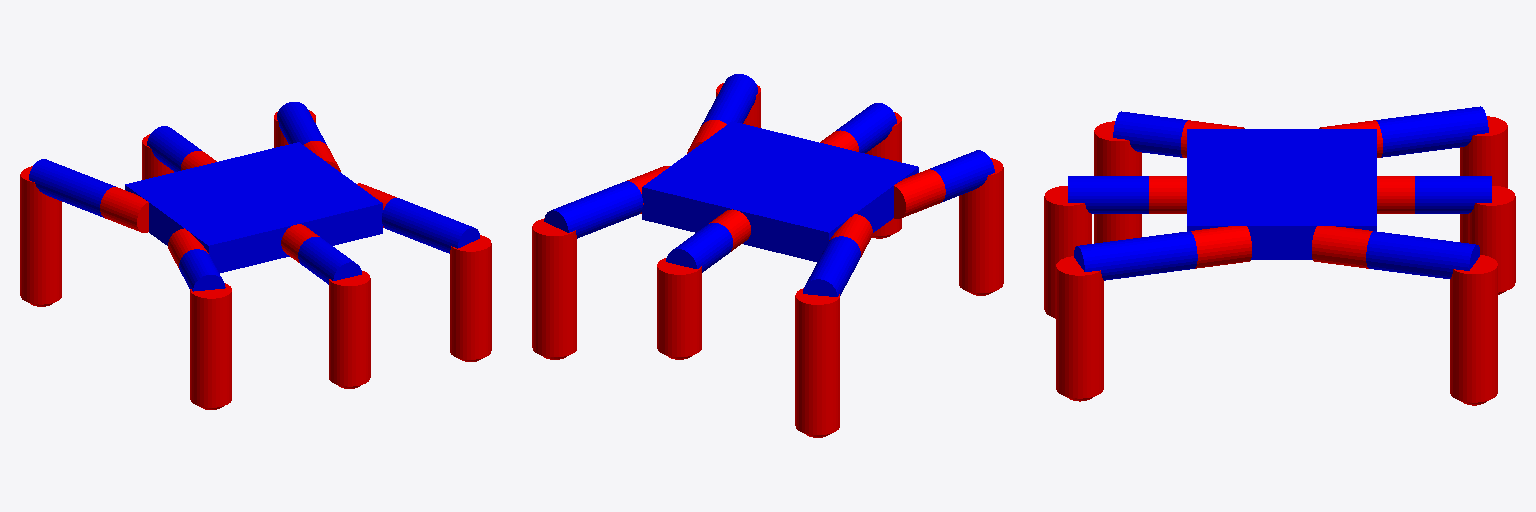
--- What the picture shows (computed from the rendered views, not written in the file) ---
The picture shows the robot from 3 angles, left to right: view 1: azimuth 30°, elevation 25°; view 2: azimuth 150°, elevation 25°; view 3: azimuth 270°, elevation 25°; orthographic projection.
Model pexod with 19 links and 18 joints (18 revolute), rooted at base_link, posed all joints at 0.
Visible links, largest first — view 1: base_link, leg_5_3, leg_3_3, leg_0_3, leg_4_3, leg_3_2, leg_0_2, leg_4_2, leg_0_1, leg_2_2, leg_5_2, leg_1_2 (+3 smaller); view 2: base_link, leg_0_3, leg_2_3, leg_5_3, leg_1_3, leg_2_2, leg_0_2, leg_1_2, leg_5_1, leg_5_2, leg_3_2, leg_4_2 (+3 smaller); view 3: base_link, leg_2_3, leg_3_3, leg_3_2, leg_2_2, leg_0_2, leg_4_3, leg_1_3, leg_5_3, leg_4_2, leg_1_2, leg_0_3 (+5 smaller).
Link boxes in pixels (x1,y1,x2,y2): base_link: (125, 142, 382, 273); leg_5_3: (190, 283, 231, 409); leg_3_3: (450, 235, 491, 361); leg_0_3: (20, 166, 61, 306); leg_4_3: (329, 271, 370, 388); leg_3_2: (382, 198, 479, 253); leg_0_2: (29, 159, 115, 217); leg_4_2: (298, 237, 361, 284); leg_0_1: (100, 187, 148, 232); leg_2_2: (277, 102, 326, 144); leg_5_2: (179, 249, 225, 291); leg_1_2: (147, 126, 201, 171); base_link: (642, 121, 918, 262); leg_0_3: (795, 288, 839, 437); leg_2_3: (532, 218, 576, 359); leg_5_3: (959, 158, 1003, 295); leg_1_3: (657, 258, 701, 359); leg_2_2: (544, 181, 642, 238); leg_0_2: (803, 236, 860, 296); leg_1_2: (666, 223, 732, 272); leg_5_1: (894, 169, 945, 218); leg_5_2: (930, 150, 994, 202); leg_3_2: (701, 74, 757, 125); leg_4_2: (836, 103, 896, 152); base_link: (1187, 129, 1376, 259); leg_2_3: (1450, 255, 1497, 405); leg_3_3: (1056, 256, 1103, 401); leg_3_2: (1074, 231, 1197, 280); leg_2_2: (1366, 231, 1479, 278); leg_0_2: (1376, 106, 1488, 157); leg_4_3: (1044, 186, 1091, 318); leg_1_3: (1468, 186, 1515, 294); leg_5_3: (1094, 121, 1141, 243); leg_4_2: (1068, 176, 1148, 213); leg_1_2: (1415, 176, 1491, 213); leg_0_3: (1460, 116, 1507, 242).
Size in the robot's own frame: 0.3961 by 0.4944 by 0.1924 metres.
Geometry: primitives only (box / cylinder / sphere), no mesh files.

The robot description file, URDF, robot "pexod":
<?xml version="1.0" ?>
<!-- =================================================================================== -->
<!-- |    This document was autogenerated by xacro from pexod.xacro                    | -->
<!-- |    EDITING THIS FILE BY HAND IS NOT RECOMMENDED                                 | -->
<!-- =================================================================================== -->
<robot name="pexod" xmlns:xacro="http://www.ros.org/wiki/xacro">
  <!-- <xacro:include filename="$(find pexod_description)/urdf/pexod_control.xacro" /> -->
  <!-- MATERIALS -->
  <material name="Blue">
    <color rgba="0 0 1 1"/>
  </material>
  <material name="Red">
    <color rgba="1 0 0 1"/>
  </material>
  <material name="Green">
    <color rgba="0 1 0 1"/>
  </material>
  <material name="Yellow">
    <color rgba="1 1 0 1"/>
  </material>
  <material name="LightGrey">
    <color rgba="0.6 0.6 0.6 1.0"/>
  </material>
  <!-- END OF MATERIALS -->
  <!-- XACRO MACROS FOR VISUALS AND COLLISIONS -->
  <!-- END OF XACRO MACROS -->
  <!-- TORSO -->
  <link name="base_link">
    <visual>
      <origin rpy="0 0 0" xyz="0 0 0"/>
      <geometry>
        <box size="0.24 0.2 0.04"/>
      </geometry>
      <material name="Blue"/>
    </visual>
    <collision>
      <origin rpy="0 0 0" xyz="0 0 0"/>
      <geometry>
        <box size="0.24 0.2 0.04"/>
      </geometry>
    </collision>
    <inertial>
      <!-- CENTER OF MASS -->
      <origin rpy="0 0 0" xyz="0 0 0"/>
      <mass value="1.031"/>
      <!-- box inertia: 1/12*m(y^2+z^2), ... -->
      <inertia ixx="0.00357413333333" ixy="0" ixz="0" iyy="0.00508626666667" iyz="0" izz="0.00838546666667"/>
    </inertial>
  </link>
  <!-- XACRO MACRO FOR LEGS LINKS/JOINTS -->
  <!-- END OF LEG LINKS/JOINTS -->
  <joint name="body_leg_2" type="revolute">
    <parent link="base_link"/>
    <child link="leg_2_1"/>
    <limit effort="30.0" lower="-1.57079632679" upper="1.57079632679" velocity="7.0"/>
    <origin rpy="0 0 -0.3" xyz="0.11 0.04 0"/>
    <!-- <xacro:if value="${index == 5 or index == 4 or index == 3}">
                <axis xyz="0 0 1"/>
            </xacro:if>
            <xacro:if value="${index == 2 or index == 1 or index == 0}"> -->
    <axis xyz="0 0 1"/>
    <!-- </xacro:if> -->
    <dynamics damping="0.0"/>
  </joint>
  <link name="leg_2_1">
    <visual>
      <origin rpy="1.57079632679 0 0" xyz="0.01 0.03 0"/>
      <geometry>
        <cylinder length="0.06" radius="0.02"/>
      </geometry>
      <material name="Red"/>
    </visual>
    <collision>
      <origin rpy="1.57079632679 0 0" xyz="0.01 0.03 0"/>
      <geometry>
        <box size="0.02 0.02 0.06"/>
      </geometry>
    </collision>
    <inertial>
      <!-- CENTER OF MASS -->
      <origin rpy="1.57079632679 0 0" xyz="0.01 0.03 0"/>
      <mass value="0.02"/>
      <!-- box inertia: 1/12*m(y^2+z^2), ... -->
      <inertia ixx="6.66666666667e-06" ixy="0" ixz="0" iyy="6.66666666667e-06" iyz="0" izz="1.33333333333e-06"/>
    </inertial>
  </link>
  <joint name="leg_2_1_2" type="revolute">
    <parent link="leg_2_1"/>
    <child link="leg_2_2"/>
    <limit effort="30.0" lower="-0.78539816339" upper="0.78539816339" velocity="7.0"/>
    <origin rpy="0 0 0" xyz="0 0.06 0"/>
    <axis xyz="1 0 0"/>
    <dynamics damping="0.0"/>
  </joint>
  <link name="leg_2_2">
    <visual>
      <origin rpy="1.57079632679 0 0" xyz="0.01 0.0565658151215 0"/>
      <geometry>
        <cylinder length="0.113131630243" radius="0.02"/>
      </geometry>
      <material name="Blue"/>
    </visual>
    <collision>
      <origin rpy="1.57079632679 0 0" xyz="0.01 0.0565658151215 0"/>
      <geometry>
        <box size="0.02 0.02 0.113131630243"/>
      </geometry>
    </collision>
    <inertial>
      <!-- CENTER OF MASS -->
      <origin rpy="1.57079632679 0 0" xyz="0.01 0.0565658151215 0"/>
      <mass value="0.184"/>
      <!-- box inertia: 1/12*m(y^2+z^2), ... -->
      <inertia ixx="0.000202381075009" ixy="0" ixz="0" iyy="0.000202381075009" iyz="0" izz="1.22666666667e-05"/>
    </inertial>
  </link>
  <joint name="leg_2_2_3" type="revolute">
    <parent link="leg_2_2"/>
    <child link="leg_2_3"/>
    <limit effort="30.0" lower="-0.78539816339" upper="0.78539816339" velocity="7.0"/>
    <origin rpy="-1.57079632679 0 0" xyz="0 0.113131630243 0"/>
    <axis xyz="-1 0 0"/>
    <dynamics damping="0.0"/>
  </joint>
  <link name="leg_2_3">
    <visual>
      <origin rpy="1.57079632679 0 0" xyz="0.0125 0.074225550587 0"/>
      <geometry>
        <cylinder length="0.148451101174" radius="0.025"/>
      </geometry>
      <material name="Red"/>
    </visual>
    <visual>
      <origin rpy="1.57079632679 0 0" xyz="0.0125 0.135951101174 0"/>
      <geometry>
        <sphere radius="0.025"/>
      </geometry>
      <material name="Red"/>
    </visual>
    <collision>
      <origin rpy="1.57079632679 0 0" xyz="0.0125 0.074225550587 0"/>
      <geometry>
        <box size="0.025 0.025 0.148451101174"/>
      </geometry>
    </collision>
    <collision>
      <origin rpy="1.57079632679 0 0" xyz="0.0125 0.135951101174 0"/>
      <geometry>
        <sphere radius="0.025"/>
      </geometry>
      <material name="Red"/>
    </collision>
    <inertial>
      <!-- CENTER OF MASS -->
      <origin rpy="1.57079632679 0 0" xyz="0.0125 0.074225550587 0"/>
      <mass value="0.04"/>
      <!-- box inertia: 1/12*m(y^2+z^2), ... -->
      <inertia ixx="7.55424314659e-05" ixy="0" ixz="0" iyy="7.55424314659e-05" iyz="0" izz="4.16666666667e-06"/>
    </inertial>
  </link>
  <joint name="body_leg_3" type="revolute">
    <parent link="base_link"/>
    <child link="leg_3_1"/>
    <limit effort="30.0" lower="-1.57079632679" upper="1.57079632679" velocity="7.0"/>
    <origin rpy="0 0 0.3" xyz="0.11 -0.04 0"/>
    <!-- <xacro:if value="${index == 5 or index == 4 or index == 3}">
                <axis xyz="0 0 1"/>
            </xacro:if>
            <xacro:if value="${index == 2 or index == 1 or index == 0}"> -->
    <axis xyz="0 0 1"/>
    <!-- </xacro:if> -->
    <dynamics damping="0.0"/>
  </joint>
  <link name="leg_3_1">
    <visual>
      <origin rpy="1.57079632679 0 0" xyz="0.01 -0.03 0"/>
      <geometry>
        <cylinder length="0.06" radius="0.02"/>
      </geometry>
      <material name="Red"/>
    </visual>
    <collision>
      <origin rpy="1.57079632679 0 0" xyz="0.01 -0.03 0"/>
      <geometry>
        <box size="0.02 0.02 0.06"/>
      </geometry>
    </collision>
    <inertial>
      <!-- CENTER OF MASS -->
      <origin rpy="1.57079632679 0 0" xyz="0.01 -0.03 0"/>
      <mass value="0.02"/>
      <!-- box inertia: 1/12*m(y^2+z^2), ... -->
      <inertia ixx="6.66666666667e-06" ixy="0" ixz="0" iyy="6.66666666667e-06" iyz="0" izz="1.33333333333e-06"/>
    </inertial>
  </link>
  <joint name="leg_3_1_2" type="revolute">
    <parent link="leg_3_1"/>
    <child link="leg_3_2"/>
    <limit effort="30.0" lower="-0.78539816339" upper="0.78539816339" velocity="7.0"/>
    <origin rpy="0 0 0" xyz="0 -0.06 0"/>
    <axis xyz="-1 0 0"/>
    <dynamics damping="0.0"/>
  </joint>
  <link name="leg_3_2">
    <visual>
      <origin rpy="1.57079632679 0 0" xyz="0.01 -0.061867593176 0"/>
      <geometry>
        <cylinder length="0.123735186352" radius="0.02"/>
      </geometry>
      <material name="Blue"/>
    </visual>
    <collision>
      <origin rpy="1.57079632679 0 0" xyz="0.01 -0.061867593176 0"/>
      <geometry>
        <box size="0.02 0.02 0.123735186352"/>
      </geometry>
    </collision>
    <inertial>
      <!-- CENTER OF MASS -->
      <origin rpy="1.57079632679 0 0" xyz="0.01 -0.061867593176 0"/>
      <mass value="0.184"/>
      <!-- box inertia: 1/12*m(y^2+z^2), ... -->
      <inertia ixx="0.000240892743904" ixy="0" ixz="0" iyy="0.000240892743904" iyz="0" izz="1.22666666667e-05"/>
    </inertial>
  </link>
  <joint name="leg_3_2_3" type="revolute">
    <parent link="leg_3_2"/>
    <child link="leg_3_3"/>
    <limit effort="30.0" lower="-0.78539816339" upper="0.78539816339" velocity="7.0"/>
    <origin rpy="1.57079632679 0 0" xyz="0 -0.123735186352 0"/>
    <axis xyz="1 0 0"/>
    <dynamics damping="0.0"/>
  </joint>
  <link name="leg_3_3">
    <visual>
      <origin rpy="1.57079632679 0 0" xyz="0.0125 -0.071116311352 0"/>
      <geometry>
        <cylinder length="0.142232622704" radius="0.025"/>
      </geometry>
      <material name="Red"/>
    </visual>
    <visual>
      <origin rpy="1.57079632679 0 0" xyz="0.0125 -0.129732622704 0"/>
      <geometry>
        <sphere radius="0.025"/>
      </geometry>
      <material name="Red"/>
    </visual>
    <collision>
      <origin rpy="1.57079632679 0 0" xyz="0.0125 -0.071116311352 0"/>
      <geometry>
        <box size="0.025 0.025 0.142232622704"/>
      </geometry>
    </collision>
    <collision>
      <origin rpy="1.57079632679 0 0" xyz="0.0125 -0.129732622704 0"/>
      <geometry>
        <sphere radius="0.025"/>
      </geometry>
      <material name="Red"/>
    </collision>
    <inertial>
      <!-- CENTER OF MASS -->
      <origin rpy="1.57079632679 0 0" xyz="0.0125 -0.071116311352 0"/>
      <mass value="0.04"/>
      <!-- box inertia: 1/12*m(y^2+z^2), ... -->
      <inertia ixx="6.95170632042e-05" ixy="0" ixz="0" iyy="6.95170632042e-05" iyz="0" izz="4.16666666667e-06"/>
    </inertial>
  </link>
  <joint name="body_leg_0" type="revolute">
    <parent link="base_link"/>
    <child link="leg_0_1"/>
    <limit effort="30.0" lower="-1.57079632679" upper="1.57079632679" velocity="7.0"/>
    <origin rpy="0 0 0.3" xyz="-0.13 0.04 0"/>
    <!-- <xacro:if value="${index == 5 or index == 4 or index == 3}">
                <axis xyz="0 0 1"/>
            </xacro:if>
            <xacro:if value="${index == 2 or index == 1 or index == 0}"> -->
    <axis xyz="0 0 1"/>
    <!-- </xacro:if> -->
    <dynamics damping="0.0"/>
  </joint>
  <link name="leg_0_1">
    <visual>
      <origin rpy="1.57079632679 0 0" xyz="0.01 0.03 0"/>
      <geometry>
        <cylinder length="0.06" radius="0.02"/>
      </geometry>
      <material name="Red"/>
    </visual>
    <collision>
      <origin rpy="1.57079632679 0 0" xyz="0.01 0.03 0"/>
      <geometry>
        <box size="0.02 0.02 0.06"/>
      </geometry>
    </collision>
    <inertial>
      <!-- CENTER OF MASS -->
      <origin rpy="1.57079632679 0 0" xyz="0.01 0.03 0"/>
      <mass value="0.02"/>
      <!-- box inertia: 1/12*m(y^2+z^2), ... -->
      <inertia ixx="6.66666666667e-06" ixy="0" ixz="0" iyy="6.66666666667e-06" iyz="0" izz="1.33333333333e-06"/>
    </inertial>
  </link>
  <joint name="leg_0_1_2" type="revolute">
    <parent link="leg_0_1"/>
    <child link="leg_0_2"/>
    <limit effort="30.0" lower="-0.78539816339" upper="0.78539816339" velocity="7.0"/>
    <origin rpy="0 0 0" xyz="0 0.06 0"/>
    <axis xyz="1 0 0"/>
    <dynamics damping="0.0"/>
  </joint>
  <link name="leg_0_2">
    <visual>
      <origin rpy="1.57079632679 0 0" xyz="0.01 0.058047839099 0"/>
      <geometry>
        <cylinder length="0.116095678198" radius="0.02"/>
      </geometry>
      <material name="Blue"/>
    </visual>
    <collision>
      <origin rpy="1.57079632679 0 0" xyz="0.01 0.058047839099 0"/>
      <geometry>
        <box size="0.02 0.02 0.116095678198"/>
      </geometry>
    </collision>
    <inertial>
      <!-- CENTER OF MASS -->
      <origin rpy="1.57079632679 0 0" xyz="0.01 0.058047839099 0"/>
      <mass value="0.184"/>
      <!-- box inertia: 1/12*m(y^2+z^2), ... -->
      <inertia ixx="0.000212799166276" ixy="0" ixz="0" iyy="0.000212799166276" iyz="0" izz="1.22666666667e-05"/>
    </inertial>
  </link>
  <joint name="leg_0_2_3" type="revolute">
    <parent link="leg_0_2"/>
    <child link="leg_0_3"/>
    <limit effort="30.0" lower="-0.78539816339" upper="0.78539816339" velocity="7.0"/>
    <origin rpy="-1.57079632679 0 0" xyz="0 0.116095678198 0"/>
    <axis xyz="-1 0 0"/>
    <dynamics damping="0.0"/>
  </joint>
  <link name="leg_0_3">
    <visual>
      <origin rpy="1.57079632679 0 0" xyz="0.0125 0.0799342762905 0"/>
      <geometry>
        <cylinder length="0.159868552581" radius="0.025"/>
      </geometry>
      <material name="Red"/>
    </visual>
    <visual>
      <origin rpy="1.57079632679 0 0" xyz="0.0125 0.147368552581 0"/>
      <geometry>
        <sphere radius="0.025"/>
      </geometry>
      <material name="Red"/>
    </visual>
    <collision>
      <origin rpy="1.57079632679 0 0" xyz="0.0125 0.0799342762905 0"/>
      <geometry>
        <box size="0.025 0.025 0.159868552581"/>
      </geometry>
    </collision>
    <collision>
      <origin rpy="1.57079632679 0 0" xyz="0.0125 0.147368552581 0"/>
      <geometry>
        <sphere radius="0.025"/>
      </geometry>
      <material name="Red"/>
    </collision>
    <inertial>
      <!-- CENTER OF MASS -->
      <origin rpy="1.57079632679 0 0" xyz="0.0125 0.0799342762905 0"/>
      <mass value="0.04"/>
      <!-- box inertia: 1/12*m(y^2+z^2), ... -->
      <inertia ixx="8.72765136811e-05" ixy="0" ixz="0" iyy="8.72765136811e-05" iyz="0" izz="4.16666666667e-06"/>
    </inertial>
  </link>
  <joint name="body_leg_5" type="revolute">
    <parent link="base_link"/>
    <child link="leg_5_1"/>
    <limit effort="30.0" lower="-1.57079632679" upper="1.57079632679" velocity="7.0"/>
    <origin rpy="0 0 -0.3" xyz="-0.13 -0.04 0"/>
    <!-- <xacro:if value="${index == 5 or index == 4 or index == 3}">
                <axis xyz="0 0 1"/>
            </xacro:if>
            <xacro:if value="${index == 2 or index == 1 or index == 0}"> -->
    <axis xyz="0 0 1"/>
    <!-- </xacro:if> -->
    <dynamics damping="0.0"/>
  </joint>
  <link name="leg_5_1">
    <visual>
      <origin rpy="1.57079632679 0 0" xyz="0.01 -0.03 0"/>
      <geometry>
        <cylinder length="0.06" radius="0.02"/>
      </geometry>
      <material name="Red"/>
    </visual>
    <collision>
      <origin rpy="1.57079632679 0 0" xyz="0.01 -0.03 0"/>
      <geometry>
        <box size="0.02 0.02 0.06"/>
      </geometry>
    </collision>
    <inertial>
      <!-- CENTER OF MASS -->
      <origin rpy="1.57079632679 0 0" xyz="0.01 -0.03 0"/>
      <mass value="0.02"/>
      <!-- box inertia: 1/12*m(y^2+z^2), ... -->
      <inertia ixx="6.66666666667e-06" ixy="0" ixz="0" iyy="6.66666666667e-06" iyz="0" izz="1.33333333333e-06"/>
    </inertial>
  </link>
  <joint name="leg_5_1_2" type="revolute">
    <parent link="leg_5_1"/>
    <child link="leg_5_2"/>
    <limit effort="30.0" lower="-0.78539816339" upper="0.78539816339" velocity="7.0"/>
    <origin rpy="0 0 0" xyz="0 -0.06 0"/>
    <axis xyz="-1 0 0"/>
    <dynamics damping="0.0"/>
  </joint>
  <link name="leg_5_2">
    <visual>
      <origin rpy="1.57079632679 0 0" xyz="0.01 -0.0371381100593 0"/>
      <geometry>
        <cylinder length="0.0742762201185" radius="0.02"/>
      </geometry>
      <material name="Blue"/>
    </visual>
    <collision>
      <origin rpy="1.57079632679 0 0" xyz="0.01 -0.0371381100593 0"/>
      <geometry>
        <box size="0.02 0.02 0.0742762201185"/>
      </geometry>
    </collision>
    <inertial>
      <!-- CENTER OF MASS -->
      <origin rpy="1.57079632679 0 0" xyz="0.01 -0.0371381100593 0"/>
      <mass value="0.184"/>
      <!-- box inertia: 1/12*m(y^2+z^2), ... -->
      <inertia ixx="9.07266720847e-05" ixy="0" ixz="0" iyy="9.07266720847e-05" iyz="0" izz="1.22666666667e-05"/>
    </inertial>
  </link>
  <joint name="leg_5_2_3" type="revolute">
    <parent link="leg_5_2"/>
    <child link="leg_5_3"/>
    <limit effort="30.0" lower="-0.78539816339" upper="0.78539816339" velocity="7.0"/>
    <origin rpy="1.57079632679 0 0" xyz="0 -0.0742762201185 0"/>
    <axis xyz="1 0 0"/>
    <dynamics damping="0.0"/>
  </joint>
  <link name="leg_5_3">
    <visual>
      <origin rpy="1.57079632679 0 0" xyz="0.0125 -0.0718207996445 0"/>
      <geometry>
        <cylinder length="0.143641599289" radius="0.025"/>
      </geometry>
      <material name="Red"/>
    </visual>
    <visual>
      <origin rpy="1.57079632679 0 0" xyz="0.0125 -0.131141599289 0"/>
      <geometry>
        <sphere radius="0.025"/>
      </geometry>
      <material name="Red"/>
    </visual>
    <collision>
      <origin rpy="1.57079632679 0 0" xyz="0.0125 -0.0718207996445 0"/>
      <geometry>
        <box size="0.025 0.025 0.143641599289"/>
      </geometry>
    </collision>
    <collision>
      <origin rpy="1.57079632679 0 0" xyz="0.0125 -0.131141599289 0"/>
      <geometry>
        <sphere radius="0.025"/>
      </geometry>
      <material name="Red"/>
    </collision>
    <inertial>
      <!-- CENTER OF MASS -->
      <origin rpy="1.57079632679 0 0" xyz="0.0125 -0.0718207996445 0"/>
      <mass value="0.04"/>
      <!-- box inertia: 1/12*m(y^2+z^2), ... -->
      <inertia ixx="7.0859696821e-05" ixy="0" ixz="0" iyy="7.0859696821e-05" iyz="0" izz="4.16666666667e-06"/>
    </inertial>
  </link>
  <joint name="body_leg_1" type="revolute">
    <parent link="base_link"/>
    <child link="leg_1_1"/>
    <limit effort="30.0" lower="-1.57079632679" upper="1.57079632679" velocity="7.0"/>
    <origin rpy="0 0 0" xyz="-0.01 0.08 0"/>
    <!-- <xacro:if value="${index == 5 or index == 4 or index == 3}">
                <axis xyz="0 0 1"/>
            </xacro:if>
            <xacro:if value="${index == 2 or index == 1 or index == 0}"> -->
    <axis xyz="0 0 1"/>
    <!-- </xacro:if> -->
    <dynamics damping="0.0"/>
  </joint>
  <link name="leg_1_1">
    <visual>
      <origin rpy="1.57079632679 0 0" xyz="0.01 0.03 0"/>
      <geometry>
        <cylinder length="0.06" radius="0.02"/>
      </geometry>
      <material name="Red"/>
    </visual>
    <collision>
      <origin rpy="1.57079632679 0 0" xyz="0.01 0.03 0"/>
      <geometry>
        <box size="0.02 0.02 0.06"/>
      </geometry>
    </collision>
    <inertial>
      <!-- CENTER OF MASS -->
      <origin rpy="1.57079632679 0 0" xyz="0.01 0.03 0"/>
      <mass value="0.02"/>
      <!-- box inertia: 1/12*m(y^2+z^2), ... -->
      <inertia ixx="6.66666666667e-06" ixy="0" ixz="0" iyy="6.66666666667e-06" iyz="0" izz="1.33333333333e-06"/>
    </inertial>
  </link>
  <joint name="leg_1_1_2" type="revolute">
    <parent link="leg_1_1"/>
    <child link="leg_1_2"/>
    <limit effort="30.0" lower="-0.78539816339" upper="0.78539816339" velocity="7.0"/>
    <origin rpy="0 0 0" xyz="0 0.06 0"/>
    <axis xyz="1 0 0"/>
    <dynamics damping="0.0"/>
  </joint>
  <link name="leg_1_2">
    <visual>
      <origin rpy="1.57079632679 0 0" xyz="0.01 0.0400769139069 0"/>
      <geometry>
        <cylinder length="0.0801538278139" radius="0.02"/>
      </geometry>
      <material name="Blue"/>
    </visual>
    <collision>
      <origin rpy="1.57079632679 0 0" xyz="0.01 0.0400769139069 0"/>
      <geometry>
        <box size="0.02 0.02 0.0801538278139"/>
      </geometry>
    </collision>
    <inertial>
      <!-- CENTER OF MASS -->
      <origin rpy="1.57079632679 0 0" xyz="0.01 0.0400769139069 0"/>
      <mass value="0.184"/>
      <!-- box inertia: 1/12*m(y^2+z^2), ... -->
      <inertia ixx="0.000104644420403" ixy="0" ixz="0" iyy="0.000104644420403" iyz="0" izz="1.22666666667e-05"/>
    </inertial>
  </link>
  <joint name="leg_1_2_3" type="revolute">
    <parent link="leg_1_2"/>
    <child link="leg_1_3"/>
    <limit effort="30.0" lower="-0.78539816339" upper="0.78539816339" velocity="7.0"/>
    <origin rpy="-1.57079632679 0 0" xyz="0 0.0801538278139 0"/>
    <axis xyz="-1 0 0"/>
    <dynamics damping="0.0"/>
  </joint>
  <link name="leg_1_3">
    <visual>
      <origin rpy="1.57079632679 0 0" xyz="0.0125 0.0505114383545 0"/>
      <geometry>
        <cylinder length="0.101022876709" radius="0.025"/>
      </geometry>
      <material name="Red"/>
    </visual>
    <visual>
      <origin rpy="1.57079632679 0 0" xyz="0.0125 0.088522876709 0"/>
      <geometry>
        <sphere radius="0.025"/>
      </geometry>
      <material name="Red"/>
    </visual>
    <collision>
      <origin rpy="1.57079632679 0 0" xyz="0.0125 0.0505114383545 0"/>
      <geometry>
        <box size="0.025 0.025 0.101022876709"/>
      </geometry>
    </collision>
    <collision>
      <origin rpy="1.57079632679 0 0" xyz="0.0125 0.088522876709 0"/>
      <geometry>
        <sphere radius="0.025"/>
      </geometry>
      <material name="Red"/>
    </collision>
    <inertial>
      <!-- CENTER OF MASS -->
      <origin rpy="1.57079632679 0 0" xyz="0.0125 0.0505114383545 0"/>
      <mass value="0.04"/>
      <!-- box inertia: 1/12*m(y^2+z^2), ... -->
      <inertia ixx="3.61020720619e-05" ixy="0" ixz="0" iyy="3.61020720619e-05" iyz="0" izz="4.16666666667e-06"/>
    </inertial>
  </link>
  <joint name="body_leg_4" type="revolute">
    <parent link="base_link"/>
    <child link="leg_4_1"/>
    <limit effort="30.0" lower="-1.57079632679" upper="1.57079632679" velocity="7.0"/>
    <origin rpy="0 0 0" xyz="-0.01 -0.08 0"/>
    <!-- <xacro:if value="${index == 5 or index == 4 or index == 3}">
                <axis xyz="0 0 1"/>
            </xacro:if>
            <xacro:if value="${index == 2 or index == 1 or index == 0}"> -->
    <axis xyz="0 0 1"/>
    <!-- </xacro:if> -->
    <dynamics damping="0.0"/>
  </joint>
  <link name="leg_4_1">
    <visual>
      <origin rpy="1.57079632679 0 0" xyz="0.01 -0.03 0"/>
      <geometry>
        <cylinder length="0.06" radius="0.02"/>
      </geometry>
      <material name="Red"/>
    </visual>
    <collision>
      <origin rpy="1.57079632679 0 0" xyz="0.01 -0.03 0"/>
      <geometry>
        <box size="0.02 0.02 0.06"/>
      </geometry>
    </collision>
    <inertial>
      <!-- CENTER OF MASS -->
      <origin rpy="1.57079632679 0 0" xyz="0.01 -0.03 0"/>
      <mass value="0.02"/>
      <!-- box inertia: 1/12*m(y^2+z^2), ... -->
      <inertia ixx="6.66666666667e-06" ixy="0" ixz="0" iyy="6.66666666667e-06" iyz="0" izz="1.33333333333e-06"/>
    </inertial>
  </link>
  <joint name="leg_4_1_2" type="revolute">
    <parent link="leg_4_1"/>
    <child link="leg_4_2"/>
    <limit effort="30.0" lower="-0.78539816339" upper="0.78539816339" velocity="7.0"/>
    <origin rpy="0 0 0" xyz="0 -0.06 0"/>
    <axis xyz="-1 0 0"/>
    <dynamics damping="0.0"/>
  </joint>
  <link name="leg_4_2">
    <visual>
      <origin rpy="1.57079632679 0 0" xyz="0.01 -0.0420997159067 0"/>
      <geometry>
        <cylinder length="0.0841994318135" radius="0.02"/>
      </geometry>
      <material name="Blue"/>
    </visual>
    <collision>
      <origin rpy="1.57079632679 0 0" xyz="0.01 -0.0420997159067 0"/>
      <geometry>
        <box size="0.02 0.02 0.0841994318135"/>
      </geometry>
    </collision>
    <inertial>
      <!-- CENTER OF MASS -->
      <origin rpy="1.57079632679 0 0" xyz="0.01 -0.0420997159067 0"/>
      <mass value="0.184"/>
      <!-- box inertia: 1/12*m(y^2+z^2), ... -->
      <inertia ixx="0.000114839679538" ixy="0" ixz="0" iyy="0.000114839679538" iyz="0" izz="1.22666666667e-05"/>
    </inertial>
  </link>
  <joint name="leg_4_2_3" type="revolute">
    <parent link="leg_4_2"/>
    <child link="leg_4_3"/>
    <limit effort="30.0" lower="-0.78539816339" upper="0.78539816339" velocity="7.0"/>
    <origin rpy="1.57079632679 0 0" xyz="0 -0.0841994318135 0"/>
    <axis xyz="1 0 0"/>
    <dynamics damping="0.0"/>
  </joint>
  <link name="leg_4_3">
    <visual>
      <origin rpy="1.57079632679 0 0" xyz="0.0125 -0.0659858728575 0"/>
      <geometry>
        <cylinder length="0.131971745715" radius="0.025"/>
      </geometry>
      <material name="Red"/>
    </visual>
    <visual>
      <origin rpy="1.57079632679 0 0" xyz="0.0125 -0.119471745715 0"/>
      <geometry>
        <sphere radius="0.025"/>
      </geometry>
      <material name="Red"/>
    </visual>
    <collision>
      <origin rpy="1.57079632679 0 0" xyz="0.0125 -0.0659858728575 0"/>
      <geometry>
        <box size="0.025 0.025 0.131971745715"/>
      </geometry>
    </collision>
    <collision>
      <origin rpy="1.57079632679 0 0" xyz="0.0125 -0.119471745715 0"/>
      <geometry>
        <sphere radius="0.025"/>
      </geometry>
      <material name="Red"/>
    </collision>
    <inertial>
      <!-- CENTER OF MASS -->
      <origin rpy="1.57079632679 0 0" xyz="0.0125 -0.0659858728575 0"/>
      <mass value="0.04"/>
      <!-- box inertia: 1/12*m(y^2+z^2), ... -->
      <inertia ixx="6.01384722235e-05" ixy="0" ixz="0" iyy="6.01384722235e-05" iyz="0" izz="4.16666666667e-06"/>
    </inertial>
  </link>
  <!-- END OF LEG LINKS/JOINTS -->
</robot>
